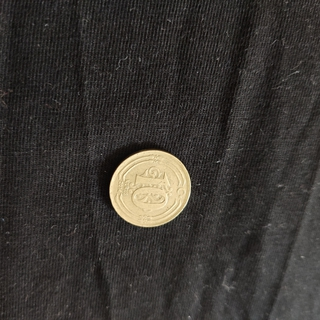10KURUS: (107, 147, 193, 229)
